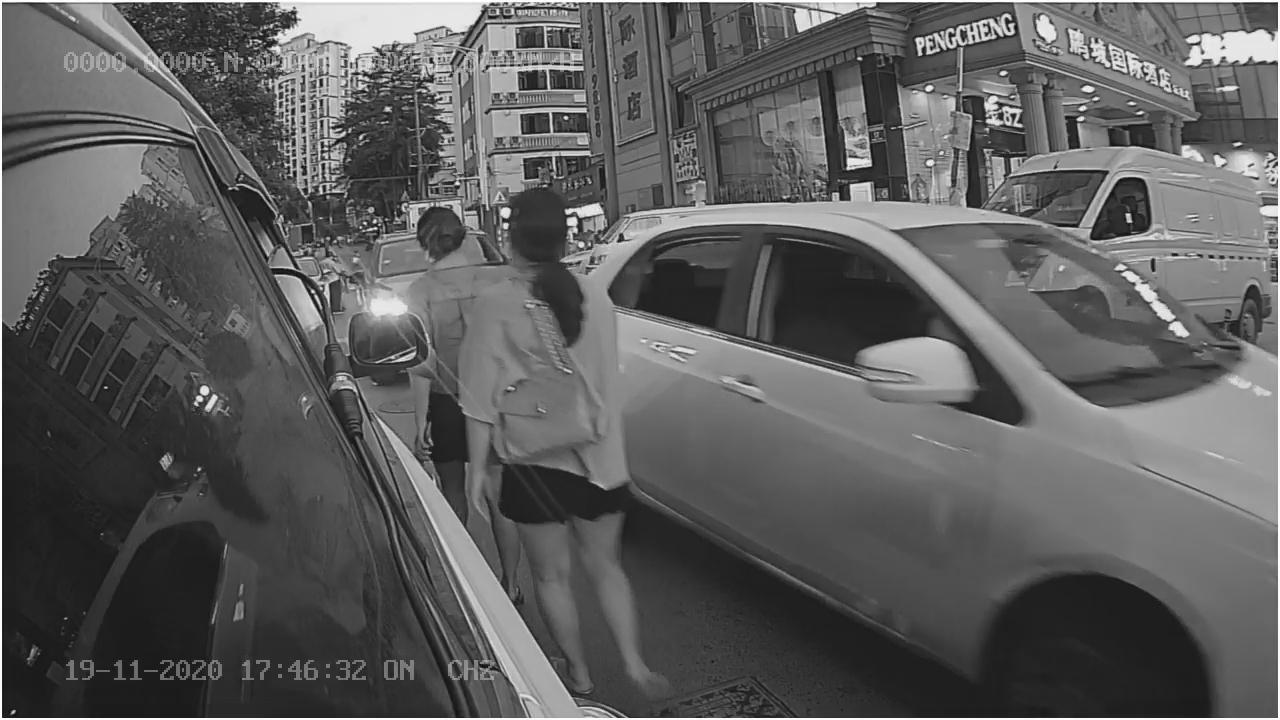person: (467, 194, 632, 551)
